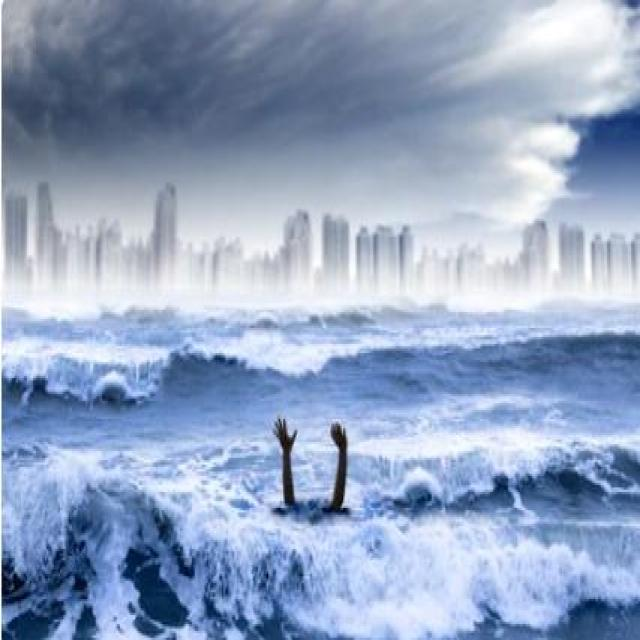Out of Water: (270, 412, 352, 520)
